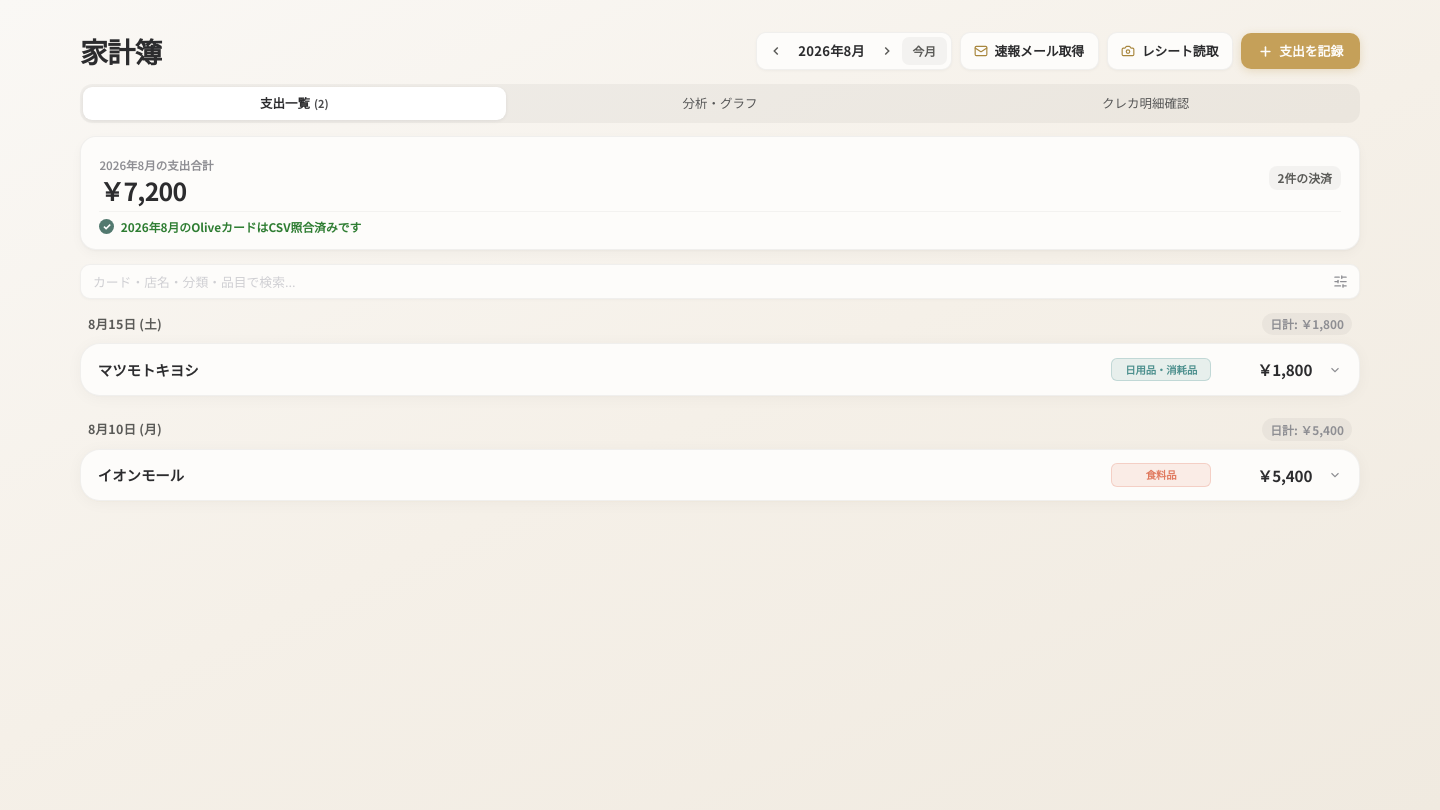
Test: Finance コンポーネント › アコーディオンをクリックすると品目内訳（牛乳、お米）が展開表示される
Click the text "イオンモール" at [141, 475], box [98,464,184,486]
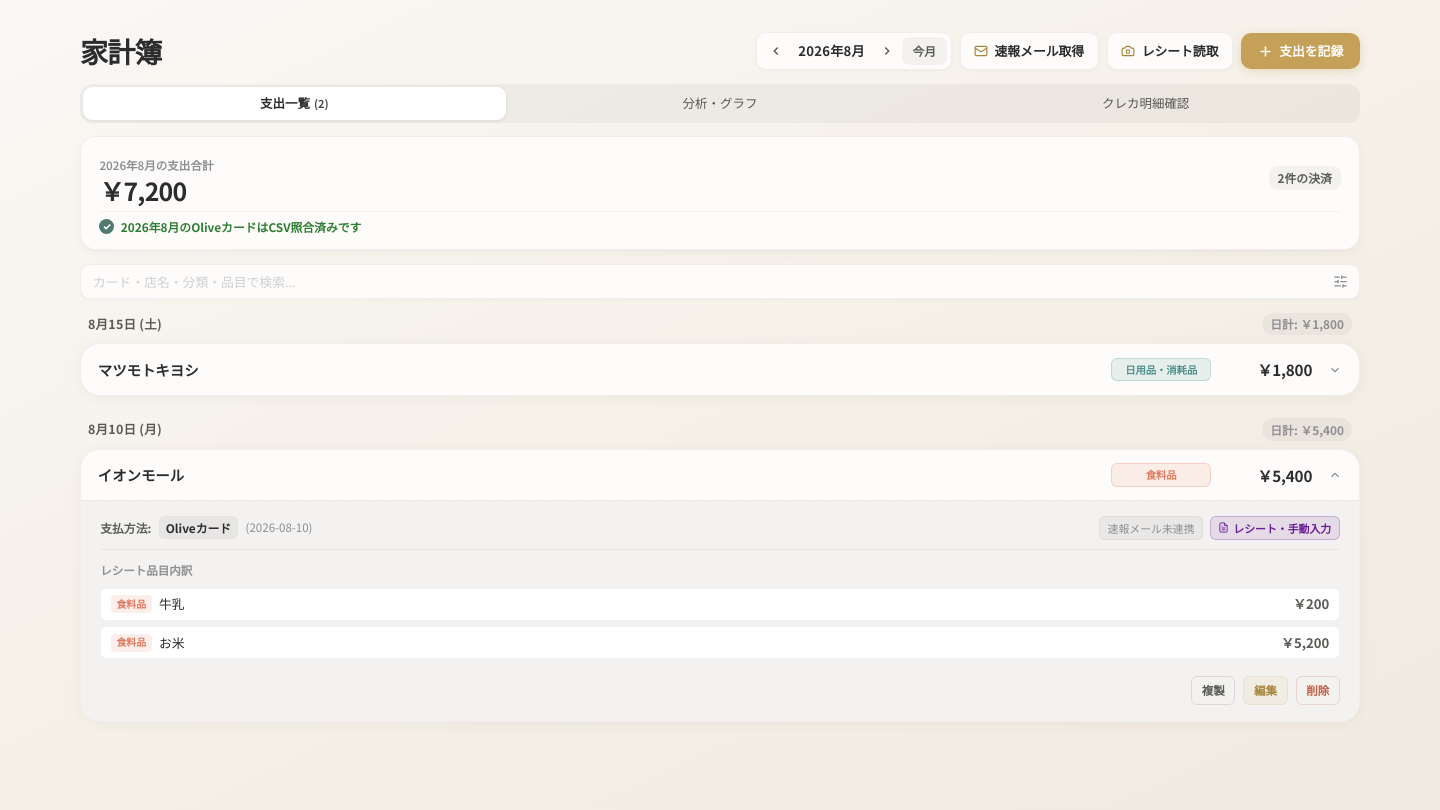
Now the text "牛乳" is shown, box [159,594,184,614]
Now the text "お米" is shown, box [159,633,184,652]
